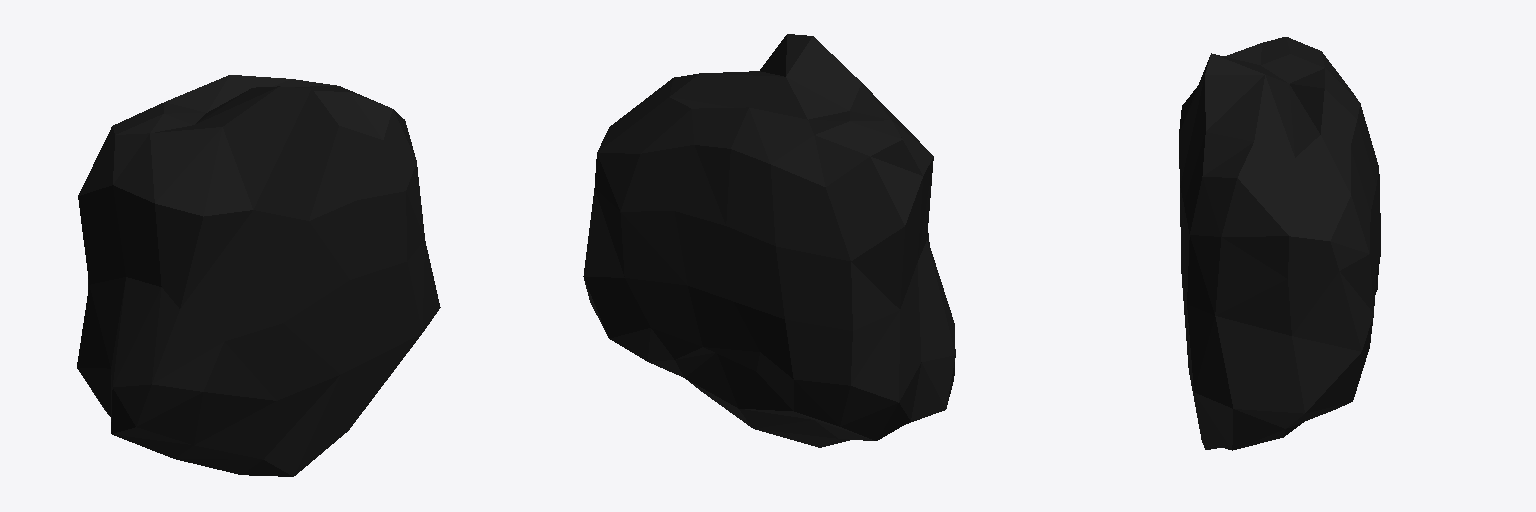
File: rock1.obj
3 views of the same model, side by side, from view 1: azimuth 30°, elevation 25°; view 2: azimuth 150°, elevation 25°; view 3: azimuth 270°, elevation 25° (orthographic).
Parts seen in each view (by area): view 1: Cube.004; view 2: Cube.004; view 3: Cube.004.
Boxes of the visible parts, box(x1,y1,x2,y2) form: Cube.004: box(77, 75, 440, 476); Cube.004: box(583, 34, 955, 447); Cube.004: box(1179, 37, 1380, 450).
Bounding box in the file's own units: 0.7959 × 0.9071 × 0.4209.